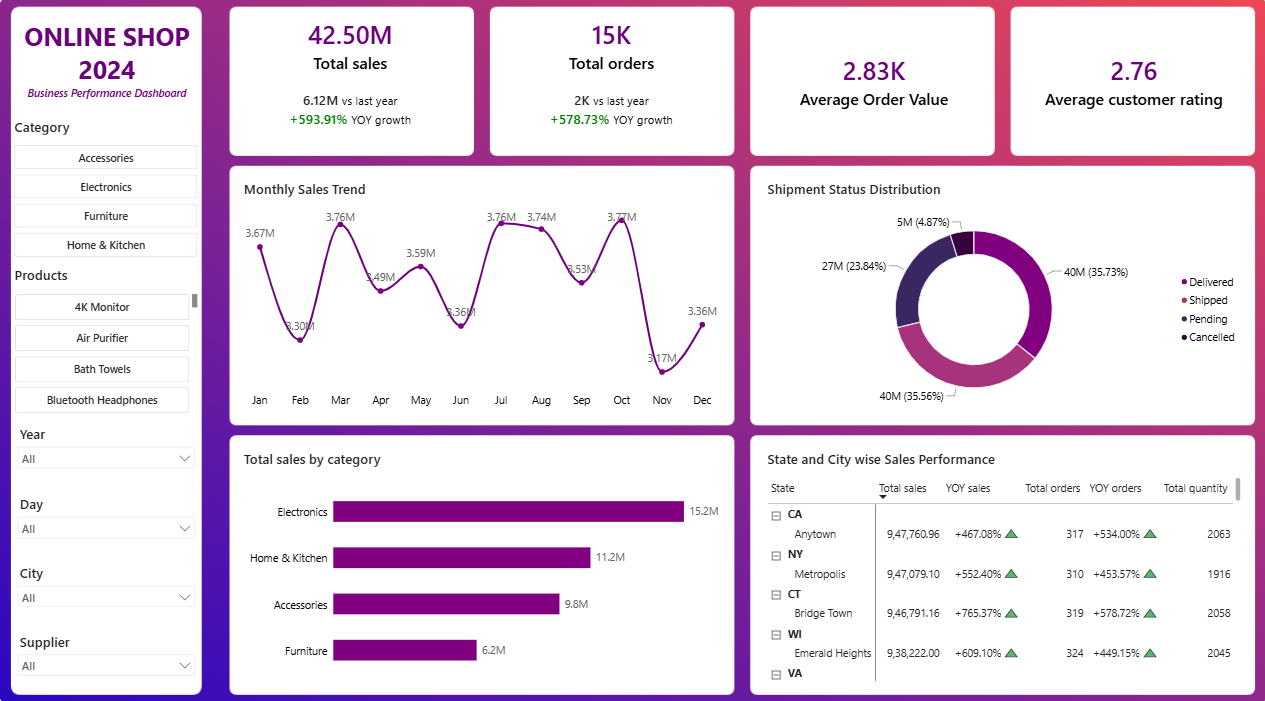

Layout of this report page (visuals, bound fields, positions):
{"tool":"powerbi","page":{"name":"Overview","canvas":[1920,1080],"ordinal":0},"visuals":[{"type":"cardVisual","fields":{"Data":["_Measures_.Total sales"]},"box":[357.1,23.2,353.6,214.3],"z":0},{"type":"cardVisual","fields":{"Data":["_Measures_.Total orders"]},"box":[751.8,23.2,353.6,214.3],"z":1000},{"type":"cardVisual","fields":{"Data":["_Measures_.AOV"]},"box":[1146.4,23.2,353.6,214.3],"z":2000},{"type":"cardVisual","fields":{"Data":["_Measures_.Avg customer rating"]},"box":[1539.3,23.2,353.6,214.3],"z":3000},{"type":"textbox","box":[12.5,35.7,305.4,201.8],"z":4000},{"type":"advancedSlicerVisual","title":"Category","fields":{"Values":["public sale_analysis.category"]},"box":[26.8,182.1,276.8,210.7],"z":5000},{"type":"slicer","fields":{"Values":["public sale_analysis.city"]},"box":[26.8,856.4,276.8,89.3],"z":5001},{"type":"slicer","fields":{"Values":["public sale_analysis.supplier_name"]},"box":[26.8,960.7,276.8,89.3],"z":5002},{"type":"advancedSlicerVisual","title":"Products","fields":{"Values":["public review_analysis.product_name"]},"box":[26.8,407.9,276.8,225],"z":5003},{"type":"lineChart","title":"Monthly Sales Trend","fields":{"Category":["Date.Month"],"Y":["_Measures_.Total sales"]},"box":[357.1,262.5,748.2,380.4],"z":5004},{"type":"clusteredBarChart","fields":{"Category":["public sale_analysis.category"],"Y":["_Measures_.Total sales"]},"box":[357.1,669.6,748.2,380.4],"z":5005},{"type":"pivotTable","title":"State and City wise Sales Performance","fields":{"Rows":["public sale_analysis.state_name","public sale_analysis.city"],"Values":["_Measures_.Total sales","_Measures_.YOY sales","_Measures_.Total orders","_Measures_.YOY orders","_Measures_.Total quantity"]},"box":[1146.4,669.6,746.4,380.4],"z":5006},{"type":"donutChart","title":"Shipment Status Distribution","fields":{"Category":["public shipment_analysis.shipment_status"],"Y":["Sum(public shipment_analysis.order_id)"]},"box":[1146.4,262.5,746.4,380.4],"z":5007},{"type":"slicer","fields":{"Values":["Date.Date.Variation.Date Hierarchy.Year"]},"box":[26.8,647.9,276.8,89.3],"z":5008},{"type":"slicer","fields":{"Values":["Date.Day"]},"box":[26.8,752.1,276.8,89.3],"z":5009}]}

Visuals, with their boxes in screenshot pixels (x1, y1, x2, y2), scaled from the page's 1920x1080 canvas onto the 1265x701 screenshot:
cardVisual - _Measures_.Total sales: bbox=[235, 15, 468, 154]
cardVisual - _Measures_.Total orders: bbox=[495, 15, 728, 154]
cardVisual - _Measures_.AOV: bbox=[755, 15, 988, 154]
cardVisual - _Measures_.Avg customer rating: bbox=[1014, 15, 1247, 154]
textbox: bbox=[8, 23, 209, 154]
"Category" advancedSlicerVisual: bbox=[18, 118, 200, 255]
slicer - public sale_analysis.city: bbox=[18, 556, 200, 614]
slicer - public sale_analysis.supplier_name: bbox=[18, 624, 200, 682]
"Products" advancedSlicerVisual: bbox=[18, 265, 200, 411]
"Monthly Sales Trend" lineChart: bbox=[235, 170, 728, 417]
clusteredBarChart - public sale_analysis.category x _Measures_.Total sales: bbox=[235, 435, 728, 682]
"State and City wise Sales Performance" pivotTable: bbox=[755, 435, 1247, 682]
"Shipment Status Distribution" donutChart: bbox=[755, 170, 1247, 417]
slicer - Date.Date.Variation.Date Hierarchy.Year: bbox=[18, 421, 200, 478]
slicer - Date.Day: bbox=[18, 488, 200, 546]
